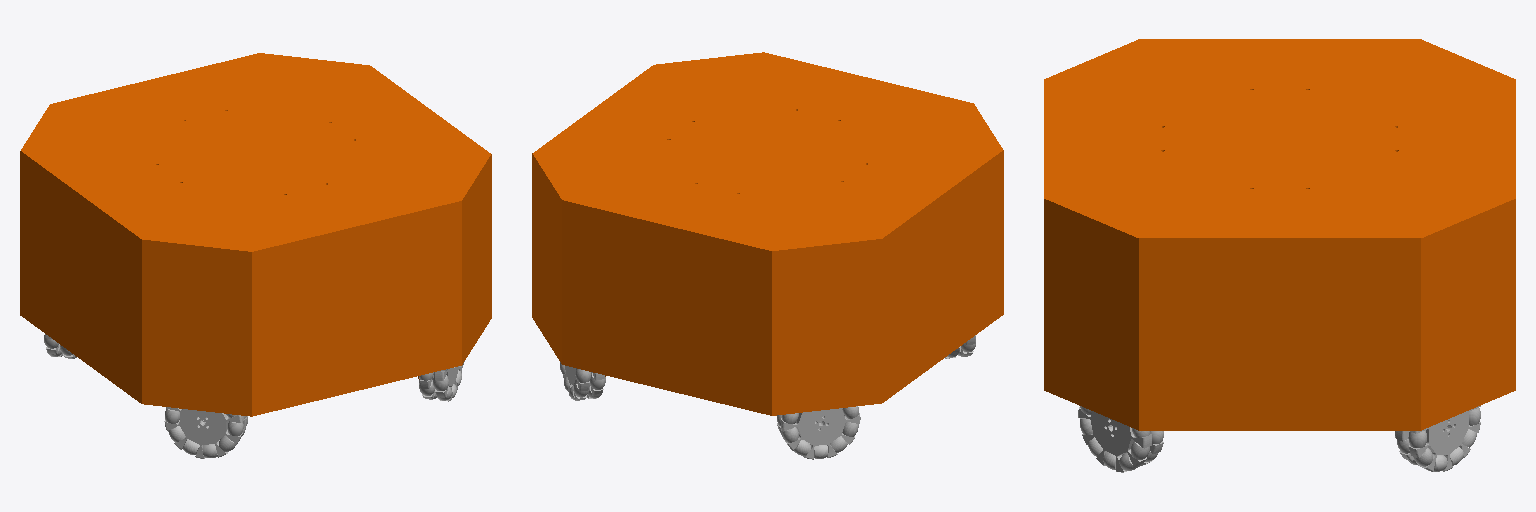
robot.urdf — assem4:
<?xml version="1.0" encoding="utf-8"?>
<!-- This URDF was automatically created by SolidWorks to URDF Exporter! Originally created by [author] ([email redacted]) 
     Commit Version: 1.6.0-4-g7f85cfe  Build Version: 1.6.7995.38578
     For more information, please see http://wiki.ros.org/sw_urdf_exporter -->
<robot
  name="assem4">
  <link
    name="base_link">
    <inertial>
      <origin
        xyz="-0.00097158991392642 0.141238649004559 9.0616641219611E-07"
        rpy="0 0 0" />
      <mass
        value="6.18799139893662" />
      <inertia
        ixx="0.190975821617679"
        ixy="4.01901385521376E-08"
        ixz="-5.59571623095739E-08"
        iyy="0.328722262102599"
        iyz="1.23706839134612E-07"
        izz="0.190967615693658" />
    </inertial>
    <visual>
      <origin
        xyz="0 0 0"
        rpy="0 0 0" />
      <geometry>
        <mesh
          filename="package://assem4/meshes/base.stl" />
      </geometry>
      <material
        name="">
        <color
          rgba="0.909803921568627 0.443137254901961 0.0313725490196078 1" />
      </material>
    </visual>
    <collision>
      <origin
        xyz="0 0 0"
        rpy="0 0 0" />
      <geometry>
        <mesh
          filename="package://assem4/meshes/base.stl" />
      </geometry>
    </collision>
  </link>
  <link
    name="roda_1">
    <inertial>
      <origin
        xyz="-0.00298916024684914 -0.0001283245750679 0.00267056079431363"
        rpy="0 0 0" />
      <mass
        value="0.203046400875564" />
      <inertia
        ixx="7.56869067967059E-05"
        ixy="3.42686548790493E-12"
        ixz="-2.28309050451303E-05"
        iyy="5.28560065572393E-05"
        iyz="-3.42686550235183E-12"
        izz="7.56869164080333E-05" />
    </inertial>
    <visual>
      <origin
        xyz="0 0 0"
        rpy="0 0 0" />
      <geometry>
        <mesh
          filename="package://assem4/meshes/roda_1.stl" />
      </geometry>
      <material
        name="">
        <color
          rgba="0.752941176470588 0.752941176470588 0.752941176470588 1" />
      </material>
    </visual>
    <collision>
      <origin
        xyz="0 0 0"
        rpy="0 0 0" />
      <geometry>
        <mesh
          filename="package://assem4/meshes/roda_1.stl" />
      </geometry>
    </collision>
  </link>
  <joint
    name="roda1"
    type="continuous">
    <origin
      xyz="0.17117 0.17085 0.0028922"
      rpy="1.5708 0 0" />
    <parent
      link="base_link" />
    <child
      link="roda_1" />
    <axis
      xyz="0.70711 0 -0.70711" />
  </joint>
  <link
    name="roda_2">
    <inertial>
      <origin
        xyz="-0.000184015036079982 -2.34095917507021E-05 0.000181148183766827"
        rpy="0 0 0" />
      <mass
        value="0.203046400875564" />
      <inertia
        ixx="7.56869054486599E-05"
        ixy="2.08742362905975E-12"
        ixz="2.28309050452597E-05"
        iyy="5.28560065569803E-05"
        iyz="2.08742362598843E-12"
        izz="7.56869177558201E-05" />
    </inertial>
    <visual>
      <origin
        xyz="0 0 0"
        rpy="0 0 0" />
      <geometry>
        <mesh
          filename="package://assem4/meshes/roda_2.stl" />
      </geometry>
      <material
        name="">
        <color
          rgba="0.752941176470588 0.752941176470588 0.752941176470588 1" />
      </material>
    </visual>
    <collision>
      <origin
        xyz="0 0 0"
        rpy="0 0 0" />
      <geometry>
        <mesh
          filename="package://assem4/meshes/roda_2.stl" />
      </geometry>
    </collision>
  </link>
  <joint
    name="roda2"
    type="continuous">
    <origin
      xyz="-0.17083 0.17119 0.0027873"
      rpy="1.5708 0 0" />
    <parent
      link="base_link" />
    <child
      link="roda_2" />
    <axis
      xyz="-0.70711 0 -0.70711" />
  </joint>
  <link
    name="roda_3">
    <inertial>
      <origin
        xyz="0.00301005381289868 -1.40647783379586E-05 -0.00264393355456624"
        rpy="0 0 0" />
      <mass
        value="0.203046400875564" />
      <inertia
        ixx="7.56869047908363E-05"
        ixy="-3.0658083767716E-13"
        ixz="-2.28309050453912E-05"
        iyy="5.28560065567172E-05"
        iyz="3.06580804252446E-13"
        izz="7.56869184133806E-05" />
    </inertial>
    <visual>
      <origin
        xyz="0 0 0"
        rpy="0 0 0" />
      <geometry>
        <mesh
          filename="package://assem4/meshes/roda_3.stl" />
      </geometry>
      <material
        name="">
        <color
          rgba="0.752941176470588 0.752941176470588 0.752941176470588 1" />
      </material>
    </visual>
    <collision>
      <origin
        xyz="0 0 0"
        rpy="0 0 0" />
      <geometry>
        <mesh
          filename="package://assem4/meshes/roda_3.stl" />
      </geometry>
    </collision>
  </link>
  <joint
    name="roda3"
    type="continuous">
    <origin
      xyz="-0.17119 -0.17083 0.0027779"
      rpy="1.5708 0 0" />
    <parent
      link="base_link" />
    <child
      link="roda_3" />
    <axis
      xyz="-0.70711 0 0.70711" />
  </joint>
  <link
    name="roda_4">
    <inertial>
      <origin
        xyz="-0.00268642055638552 0.00016146222194244 -0.00297330049881628"
        rpy="0 0 0" />
      <mass
        value="0.203046400875564" />
      <inertia
        ixx="7.56869148915296E-05"
        ixy="4.22773772736424E-12"
        ixz="2.28309050446226E-05"
        iyy="5.28560065565497E-05"
        iyz="4.22851165936016E-12"
        izz="7.56869083109736E-05" />
    </inertial>
    <visual>
      <origin
        xyz="0 0 0"
        rpy="0 0 0" />
      <geometry>
        <mesh
          filename="package://assem4/meshes/roda_4.stl" />
      </geometry>
      <material
        name="">
        <color
          rgba="0.752941176470588 0.752941176470588 0.752941176470588 1" />
      </material>
    </visual>
    <collision>
      <origin
        xyz="0 0 0"
        rpy="0 0 0" />
      <geometry>
        <mesh
          filename="package://assem4/meshes/roda_4.stl" />
      </geometry>
    </collision>
  </link>
  <joint
    name="roda4"
    type="continuous">
    <origin
      xyz="0.170865182081803 -0.171152061860908 0.0026023881812039"
      rpy="1.5707963267949 0 0" />
    <parent
      link="base_link" />
    <child
      link="roda_4" />
    <axis
      xyz="0.707106781186548 0 0.707106781186547" />
  </joint>
</robot>

--- What the picture shows (computed from the rendered views, not written in the file) ---
3 views of the same robot in one strip: view 1: azimuth 30°, elevation 25°; view 2: azimuth 150°, elevation 25°; view 3: azimuth 270°, elevation 25° (orthographic).
Robot: assem4 — 5 links, 4 joints (4 continuous); root link base_link; default pose: every joint at zero.
Links seen in each view (by area): view 1: base_link, roda_3, roda_4; view 2: base_link, roda_2, roda_1; view 3: base_link, roda_4, roda_1.
Boxes of the visible links, <box> form: base_link: <box>20,53,491,416</box>; roda_3: <box>164,407,247,458</box>; roda_4: <box>419,361,464,401</box>; base_link: <box>532,52,1003,415</box>; roda_2: <box>777,406,860,459</box>; roda_1: <box>560,362,605,400</box>; base_link: <box>1044,39,1515,430</box>; roda_4: <box>1078,406,1163,472</box>; roda_1: <box>1395,406,1480,471</box>.
Bounding box of the posed robot: 0.5 × 0.5 × 0.3054 m (x, y, z).
Meshes: 5 distinct files referenced, 5 mesh visuals loaded (5 binary STL).